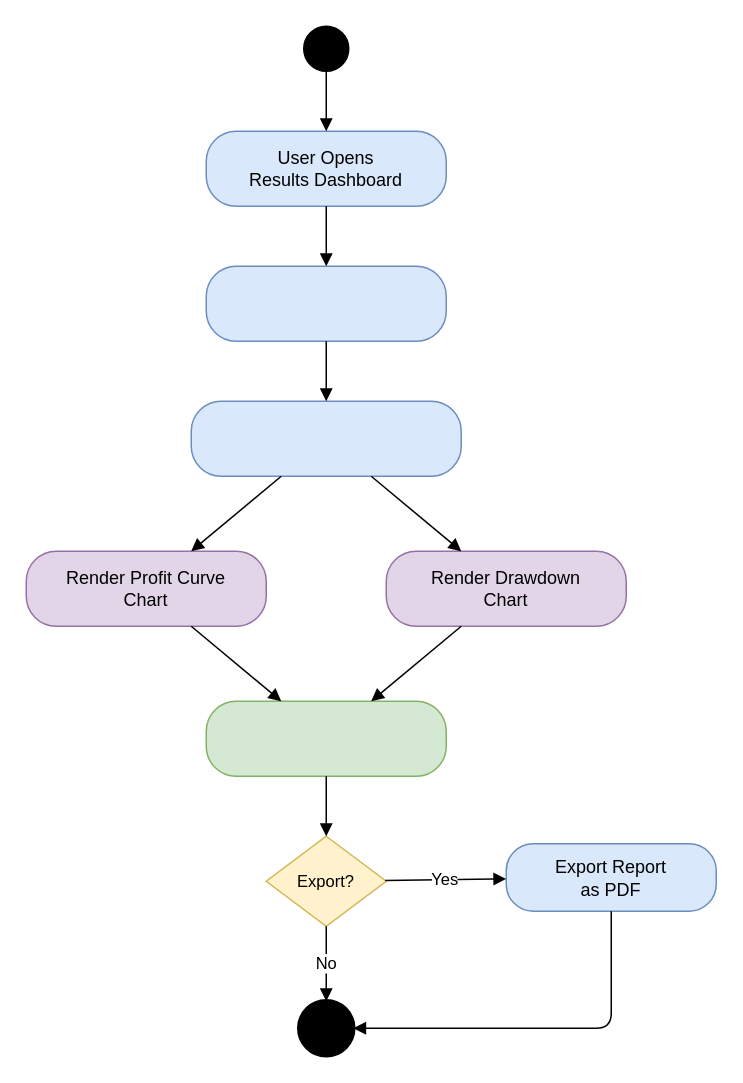
Image size: 743x1083. Some labels were removed from this diagram. The centre of each missing label's shape, as x and y in pixels:
Display Performance Metrics in Dashboard: point 325,438
Load Stored Metrics Data: point 325,303
User Reviews Visualizations: point 325,738
